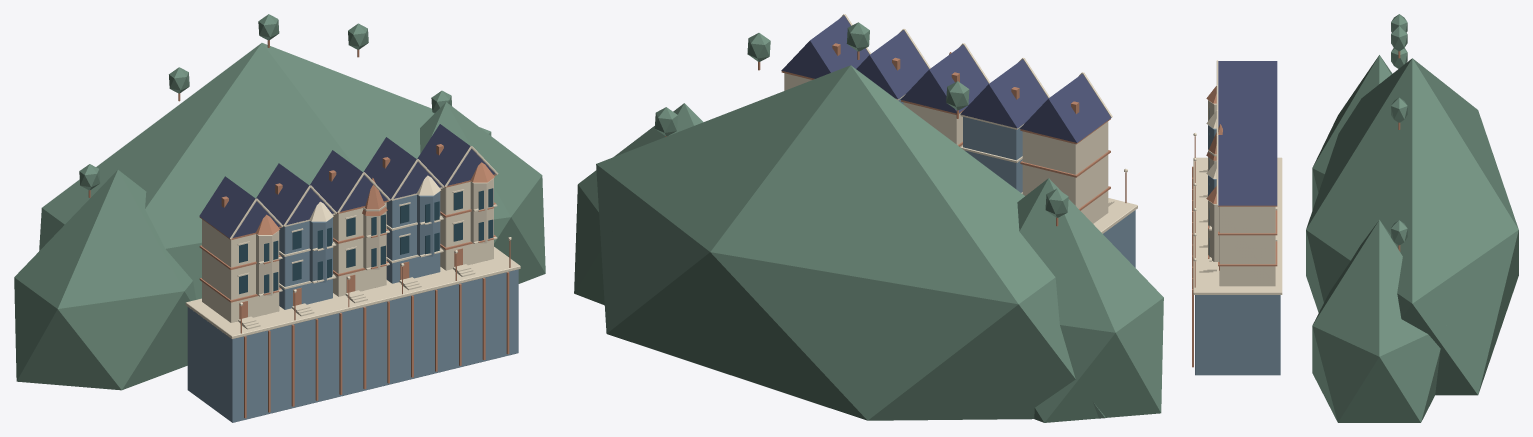
File: sf4_painted_ladies_complete.glb
The picture shows the model from 3 angles, left to right: view 1: azimuth 30°, elevation 25°; view 2: azimuth 150°, elevation 25°; view 3: azimuth 270°, elevation 25°; orthographic projection. The views are drawn at different scales.
Visible parts, largest first — view 1: sf4_painted_ladies_complete__sf4-mist-sage, sf4_painted_ladies_complete__sf3-dusty-blue, sf4_painted_ladies_complete__sf3-warm-ivory, sf4_painted_ladies_complete__sf3-midnight-indigo, sf4_painted_ladies_complete__sf3-burnished-copper, sf4_painted_ladies_complete__sf3-deep-glass; view 2: sf4_painted_ladies_complete__sf4-mist-sage, sf4_painted_ladies_complete__sf3-midnight-indigo, sf4_painted_ladies_complete__sf3-warm-ivory, sf4_painted_ladies_complete__sf3-dusty-blue, sf4_painted_ladies_complete__sf3-burnished-copper; view 3: sf4_painted_ladies_complete__sf4-mist-sage, sf4_painted_ladies_complete__sf3-warm-ivory, sf4_painted_ladies_complete__sf3-midnight-indigo, sf4_painted_ladies_complete__sf3-dusty-blue, sf4_painted_ladies_complete__sf3-burnished-copper.
Boxes of the visible parts, box(x1,y1,x2,y2) form: sf4_painted_ladies_complete__sf4-mist-sage: box(14, 14, 545, 390); sf4_painted_ladies_complete__sf3-dusty-blue: box(187, 191, 518, 422); sf4_painted_ladies_complete__sf3-warm-ivory: box(185, 146, 520, 339); sf4_painted_ladies_complete__sf3-midnight-indigo: box(199, 124, 495, 238); sf4_painted_ladies_complete__sf3-burnished-copper: box(88, 40, 510, 418); sf4_painted_ladies_complete__sf3-deep-glass: box(239, 188, 493, 294); sf4_painted_ladies_complete__sf4-mist-sage: box(574, 22, 1163, 422); sf4_painted_ladies_complete__sf3-midnight-indigo: box(781, 15, 1110, 142); sf4_painted_ladies_complete__sf3-warm-ivory: box(784, 14, 1137, 233); sf4_painted_ladies_complete__sf3-dusty-blue: box(898, 97, 1135, 267); sf4_painted_ladies_complete__sf3-burnished-copper: box(665, 43, 1126, 226); sf4_painted_ladies_complete__sf4-mist-sage: box(1306, 14, 1518, 422); sf4_painted_ladies_complete__sf3-warm-ivory: box(1193, 60, 1282, 294); sf4_painted_ladies_complete__sf3-midnight-indigo: box(1218, 61, 1277, 205); sf4_painted_ladies_complete__sf3-dusty-blue: box(1195, 125, 1280, 375); sf4_painted_ladies_complete__sf3-burnished-copper: box(1192, 51, 1400, 367).
Size of the model in its own units: 88.09 by 47.4 by 49.61.
